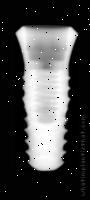Cowellmedi: (15, 26, 78, 173)
